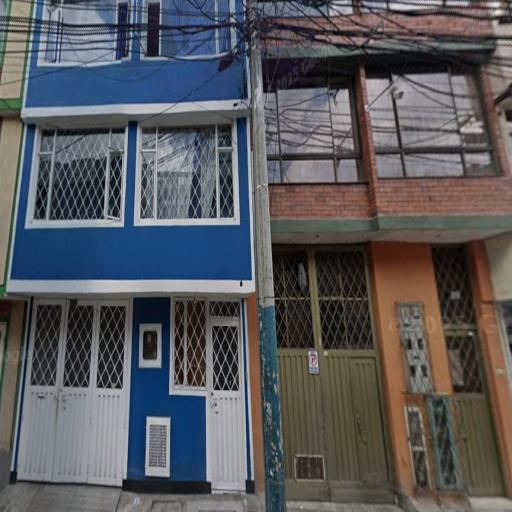Casa: (261, 0, 512, 504), (7, 0, 257, 503)
postes: (244, 0, 289, 511)
